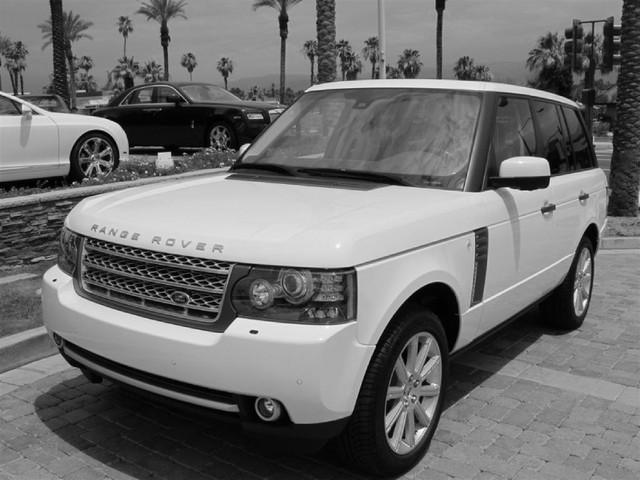car: (42, 79, 613, 480)
